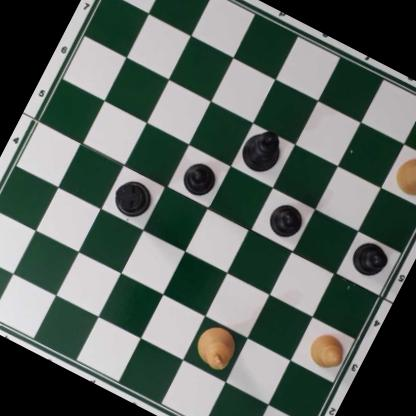black-king: (234, 121, 290, 178)
black-pawn: (346, 233, 394, 282), (176, 156, 222, 202), (264, 197, 309, 243)
black-rook: (107, 174, 158, 224)
white-bishop: (411, 91, 416, 154)
white-king: (188, 319, 243, 375)
white-pawn: (302, 326, 351, 375)
white-rook: (391, 145, 416, 205)
